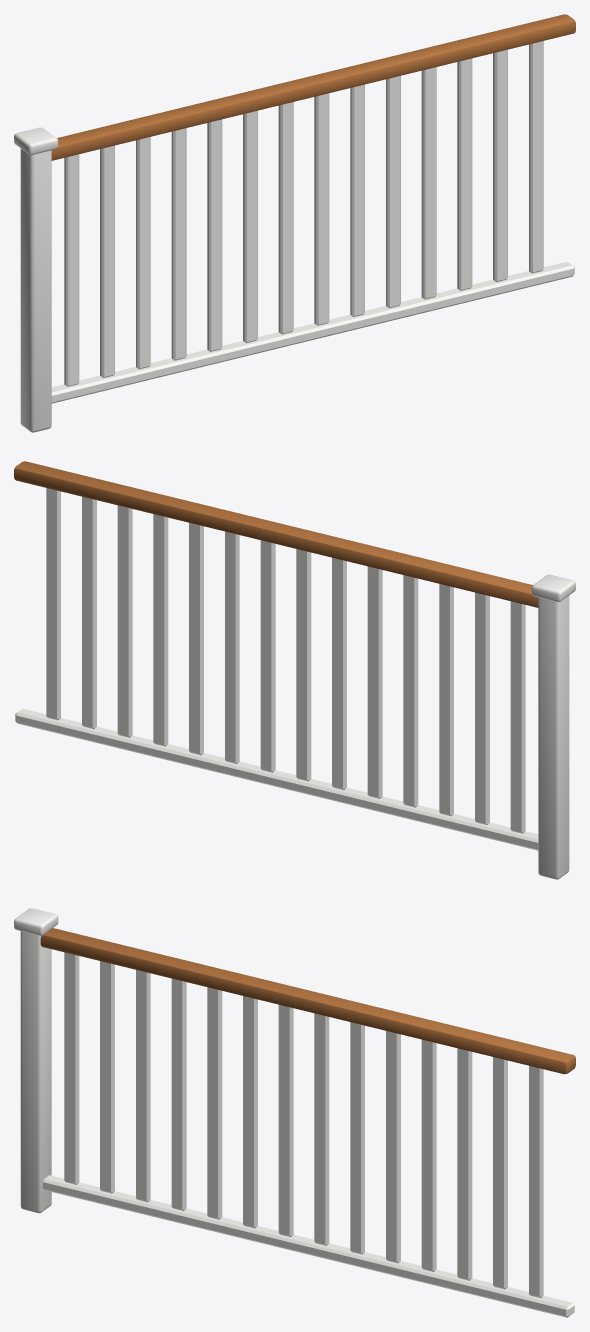
File: guarda_corpo_madeira_2m.glb
3 renders of one model, top to bottom at view 1: azimuth 30°, elevation 25°; view 2: azimuth 150°, elevation 25°; view 3: azimuth 330°, elevation 25°, orthographic.
Visible parts, largest first — view 1: guarda_corpo_madeira_2m; view 2: guarda_corpo_madeira_2m; view 3: guarda_corpo_madeira_2m.
Part boxes in pixels (x1,y1,x2,y2): guarda_corpo_madeira_2m: [14, 14, 575, 432]; guarda_corpo_madeira_2m: [14, 461, 575, 879]; guarda_corpo_madeira_2m: [14, 908, 575, 1317].
Size of the model in its own units: 2.05 by 1.04 by 0.11.
1 material, 1 textured.
